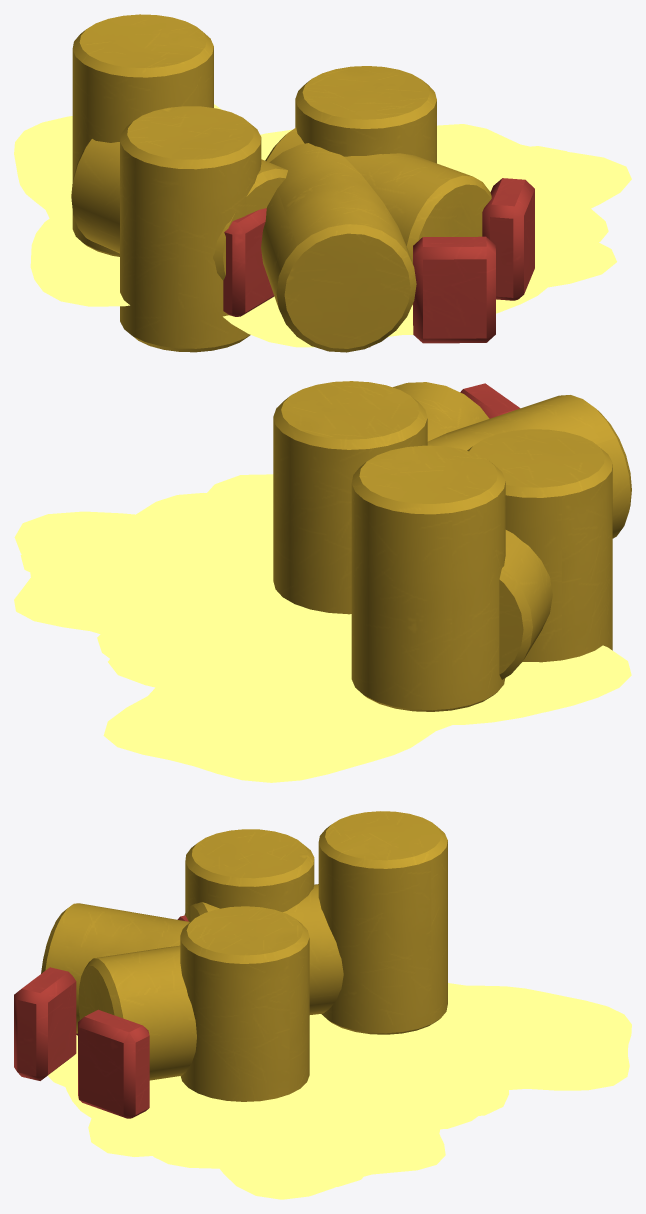
File: cargo_spill_fuel.glb
3 renders of one model, top to bottom at view 1: azimuth 30°, elevation 25°; view 2: azimuth 150°, elevation 25°; view 3: azimuth 270°, elevation 25°, orthographic. The views are drawn at different scales.
Parts seen in each view (by area): view 1: cargo_spill_fuel; view 2: cargo_spill_fuel; view 3: cargo_spill_fuel.
Boxes of the visible parts, x1,y1,x2,y2 form: cargo_spill_fuel: (14,14,631,352); cargo_spill_fuel: (14,381,631,782); cargo_spill_fuel: (14,811,631,1199).
Size of the model in its own units: 2.77 by 1.05 by 2.86.
Materials: 3 (2 with a texture image).
